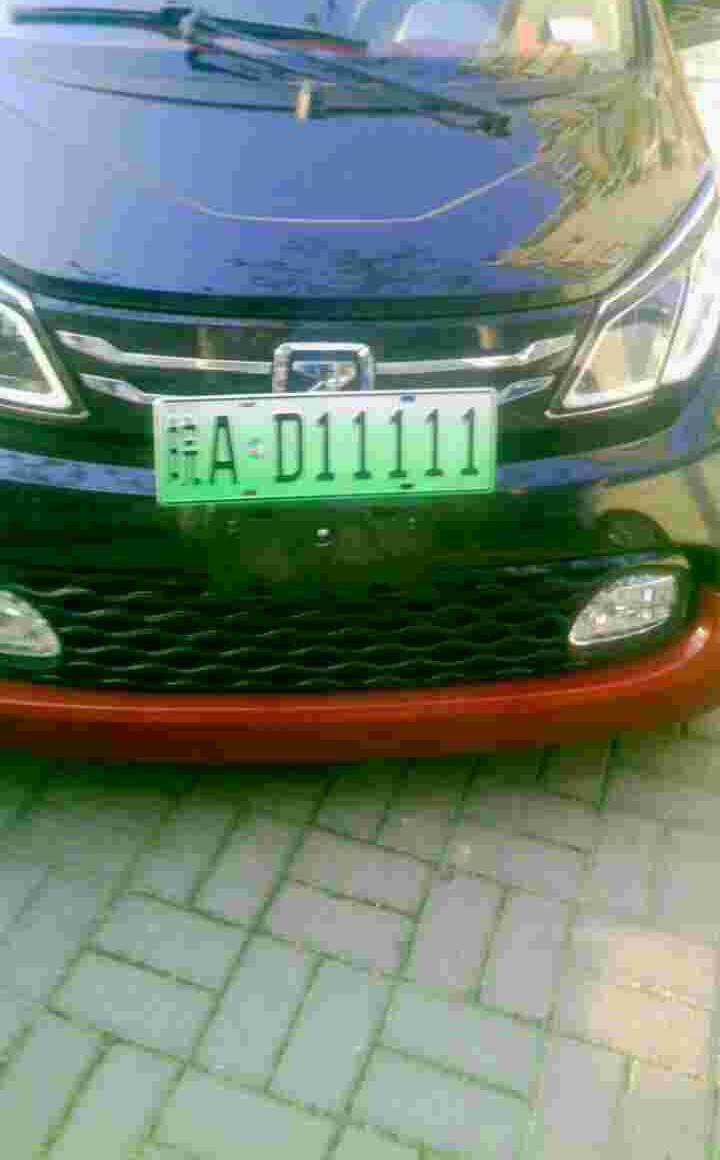car_id: (158, 391, 491, 499)
